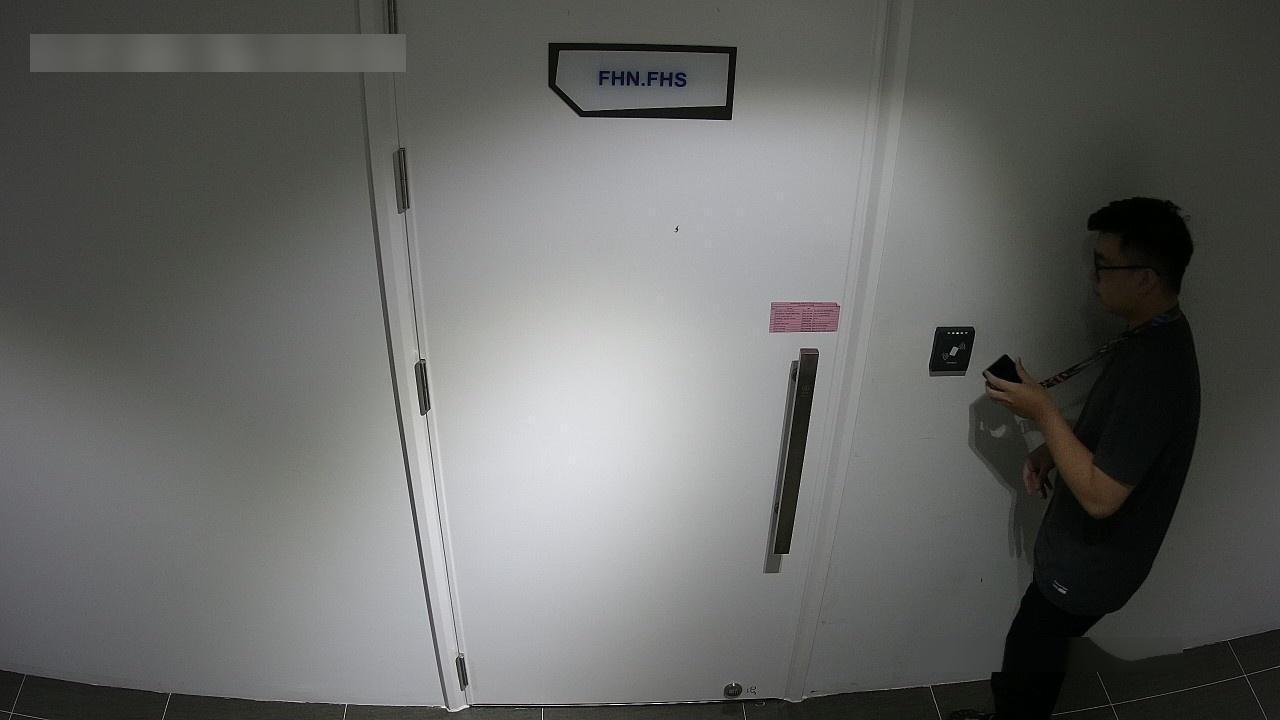no_apron: (974, 353, 1082, 437)
no_gloves: (1077, 172, 1216, 324)
no_hairnet: (1085, 226, 1155, 318)
